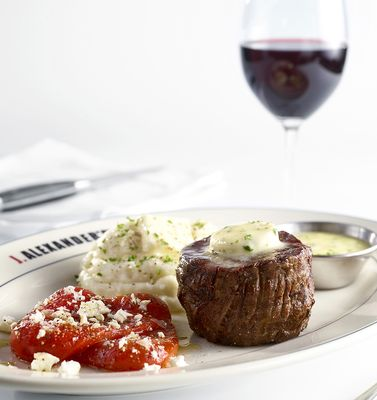burger: (2, 161, 164, 212)
